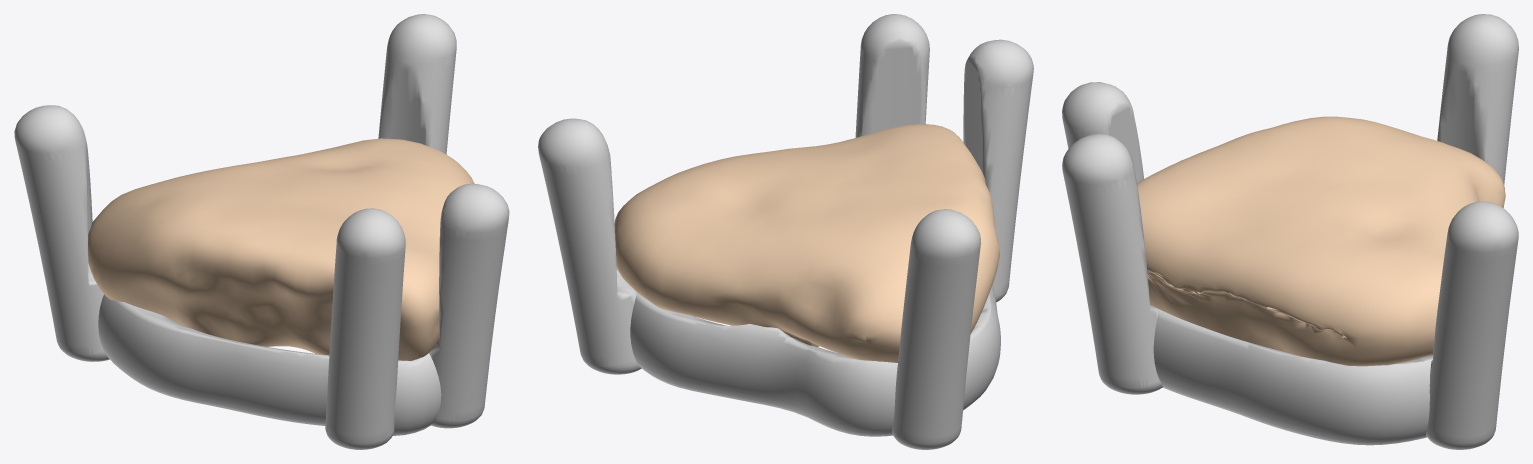
Rendered from Pebble Necklace.glb.
The picture shows the model from 3 angles, left to right: view 1: azimuth 30°, elevation 25°; view 2: azimuth 150°, elevation 25°; view 3: azimuth 270°, elevation 25°; orthographic projection. The views are drawn at different scales.
Parts seen in each view (by area): view 1: heart_necklace, the_pebble; view 2: heart_necklace, the_pebble; view 3: heart_necklace, the_pebble.
Boxes of the visible parts, x1=… form: heart_necklace: x1=14, y1=14, x2=509, y2=449; the_pebble: x1=88, y1=138, x2=474, y2=360; heart_necklace: x1=538, y1=14, x2=1033, y2=449; the_pebble: x1=614, y1=124, x2=999, y2=362; heart_necklace: x1=1062, y1=14, x2=1518, y2=449; the_pebble: x1=1137, y1=116, x2=1505, y2=366.
Size of the model in its own units: 2.78 by 1.49 by 2.46.
